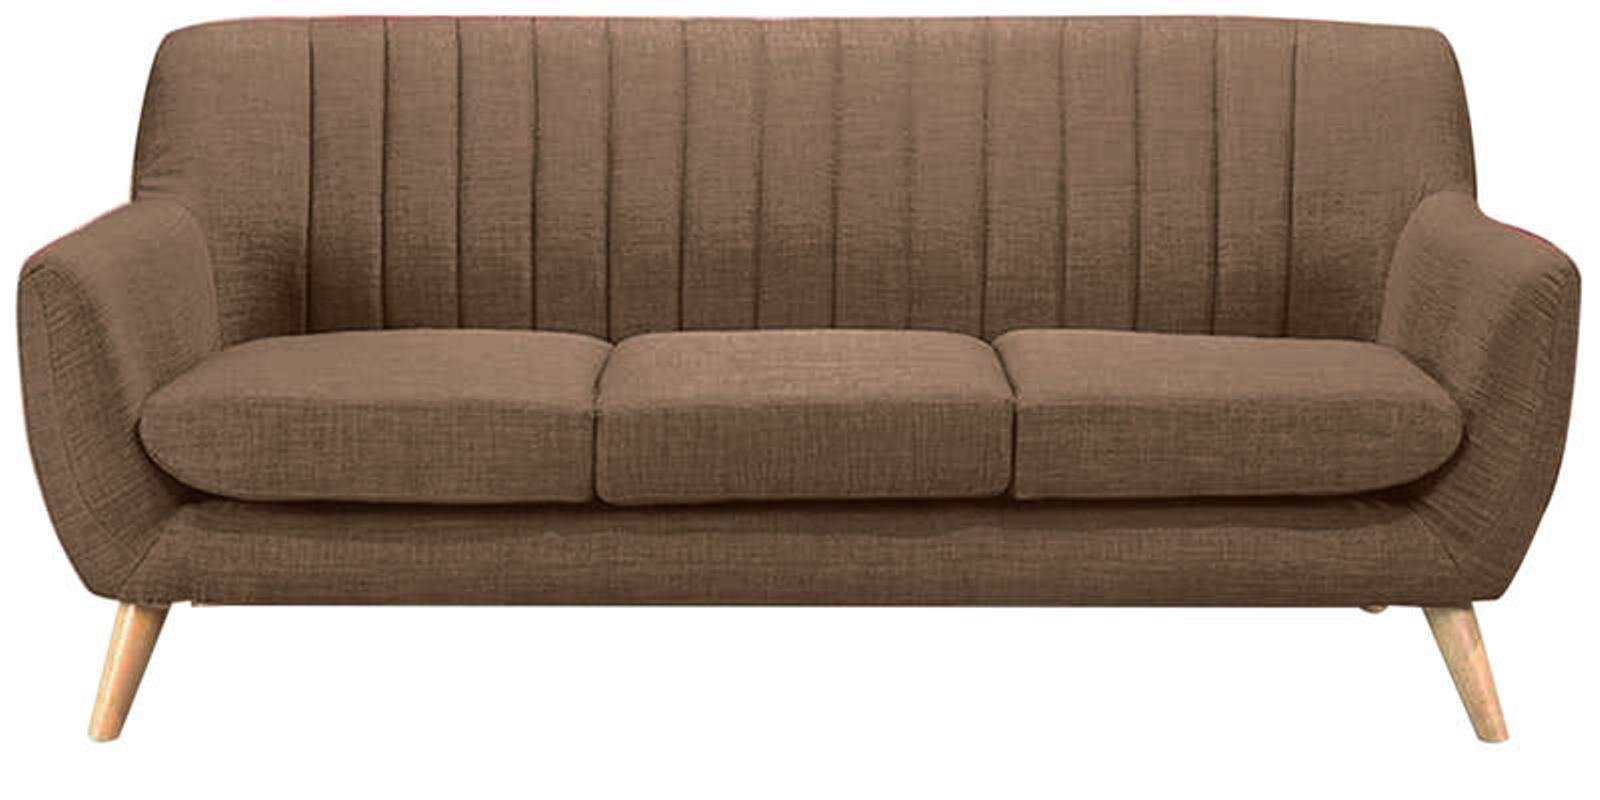Managua Three Seater Sofa in Coyote Colour by CasaCraft: (18, 13, 1585, 744)
